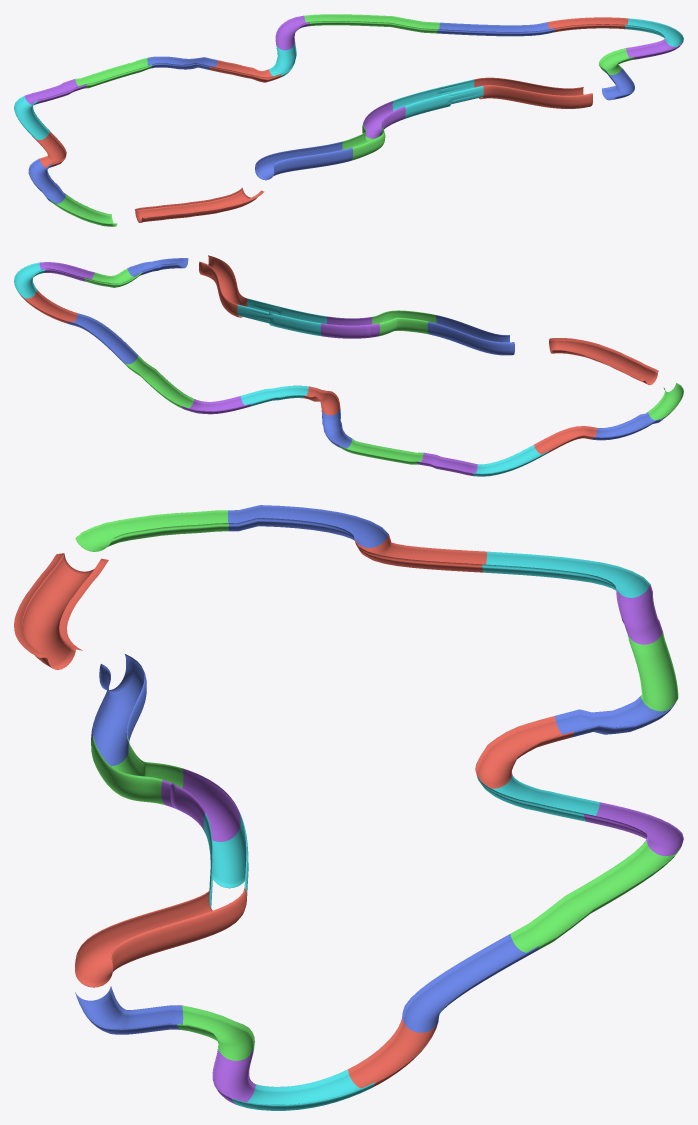
Rendered from mapa9hams.glb.
3 renders of one model, top to bottom at view 1: azimuth 30°, elevation 25°; view 2: azimuth 150°, elevation 25°; view 3: azimuth 270°, elevation 25°, orthographic. The views are drawn at different scales.
Parts seen in each view (by area): view 1: BézierCurve; view 2: BézierCurve; view 3: BézierCurve.
Part boxes in pixels (x1=…): BézierCurve: x1=14, y1=14, x2=683, y2=226; BézierCurve: x1=14, y1=255, x2=683, y2=476; BézierCurve: x1=14, y1=505, x2=683, y2=1110.
Size of the model in its own units: 173 by 5.14 by 81.57.
